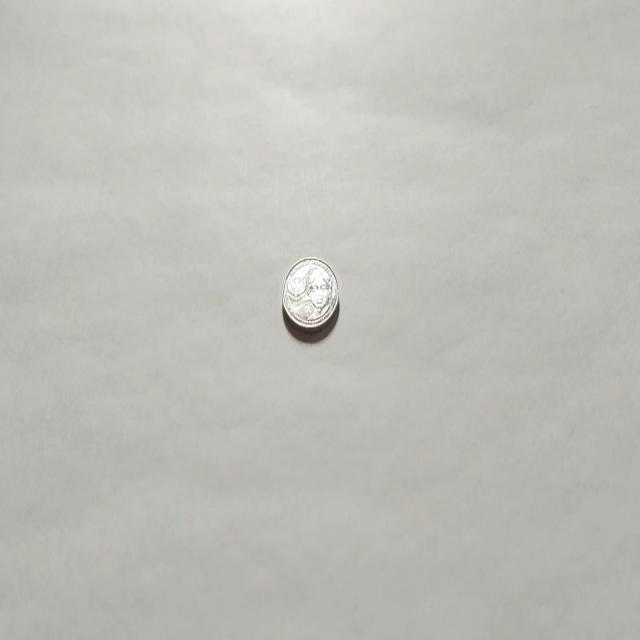dua ratus rupiah: (280, 255, 340, 338)
